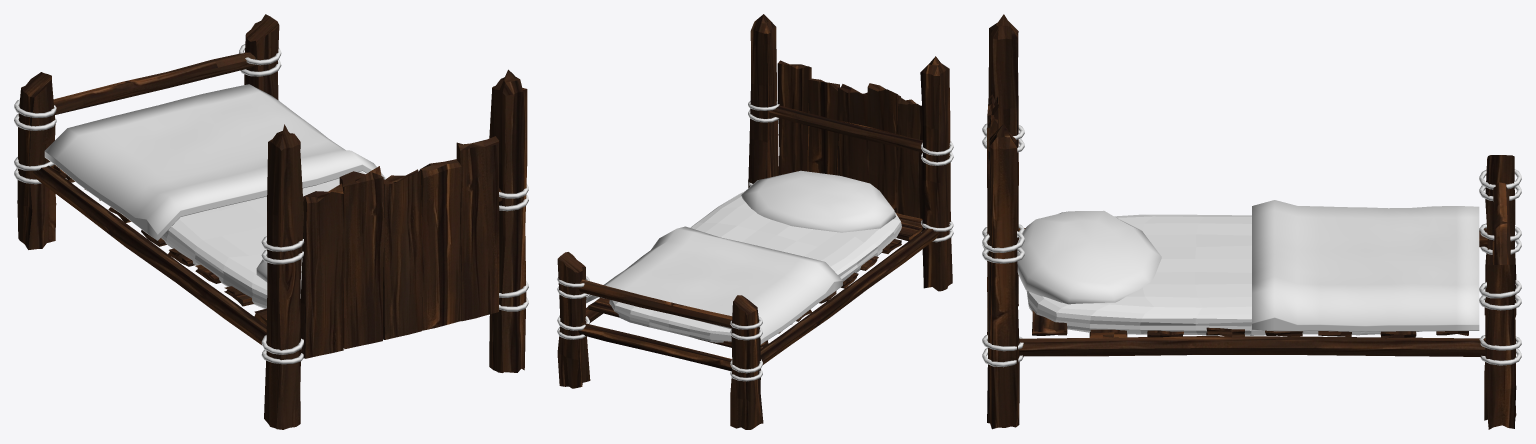
The model's file is Bed.fbx.
3 renders of one model, left to right at view 1: azimuth 30°, elevation 25°; view 2: azimuth 150°, elevation 25°; view 3: azimuth 270°, elevation 25°, orthographic. The views are drawn at different scales.
Parts seen in each view (by area): view 1: Bed_Mattress; view 2: Bed_Mattress; view 3: Bed_Mattress.
Boxes of the visible parts, x1,y1,x2,y2 form: Bed_Mattress: (14,14,528,429); Bed_Mattress: (557,14,953,429); Bed_Mattress: (982,14,1521,429).
Bounding box in the file's own units: 128 × 140 × 228.
